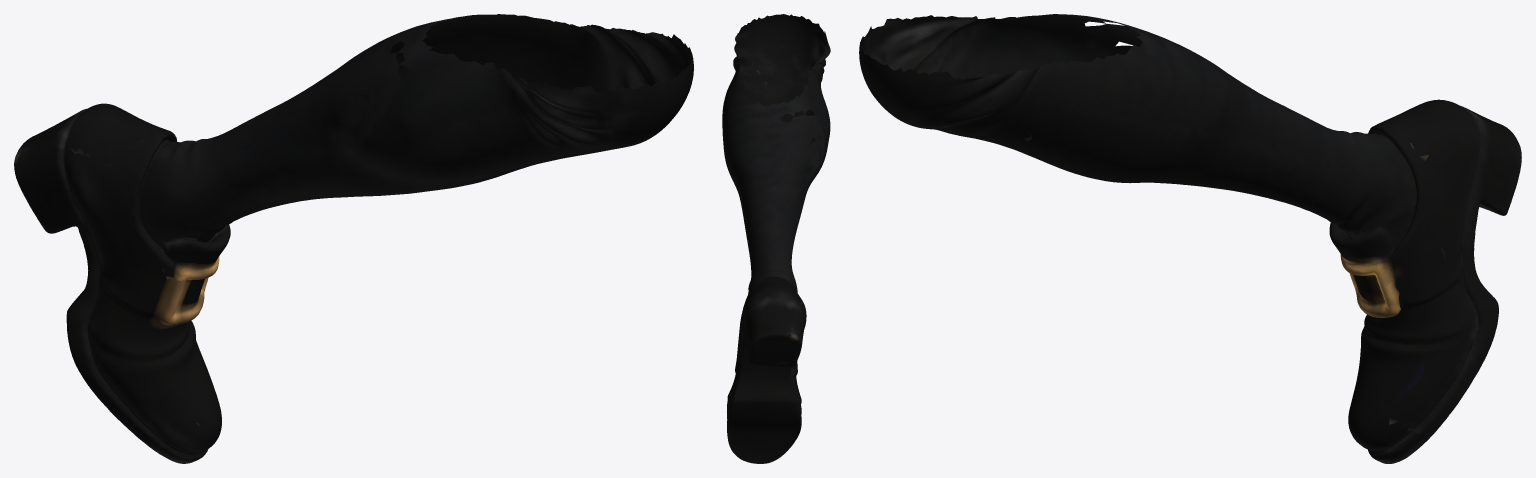
Rendered from pierIzqAbajo.obj.
The picture shows the model from 3 angles, left to right: view 1: azimuth 30°, elevation 25°; view 2: azimuth 150°, elevation 25°; view 3: azimuth 270°, elevation 25°; orthographic projection. The views are drawn at different scales.
Visible parts, largest first — view 1: pieIzqAbajo; view 2: pieIzqAbajo; view 3: pieIzqAbajo.
Boxes of the visible parts, x1,y1,x2,y2 form: pieIzqAbajo: (14,14,693,463); pieIzqAbajo: (722,14,830,463); pieIzqAbajo: (859,14,1521,463).
Bounding box in the file's own units: 0.3246 × 0.4309 × 0.5064.
Materials: 1 (1 with a texture image).
